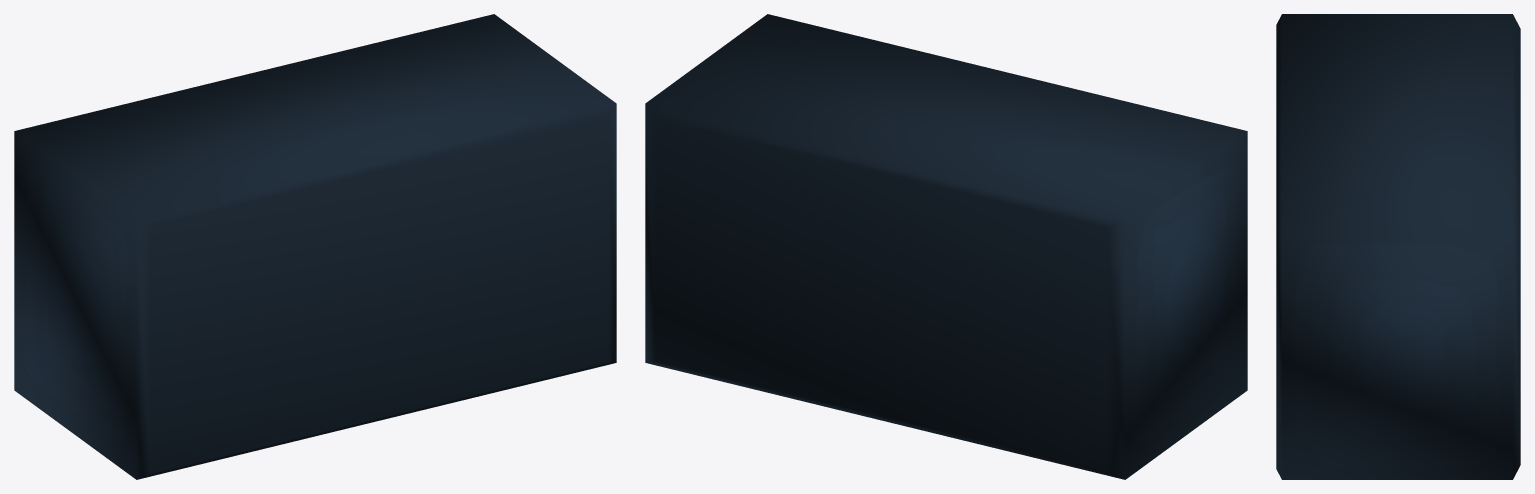
The model's file is minichef_props_mano_caja.fbx.
The picture shows the model from 3 angles, left to right: view 1: azimuth 30°, elevation 25°; view 2: azimuth 150°, elevation 25°; view 3: azimuth 270°, elevation 25°; orthographic projection. The views are drawn at different scales.
Parts seen in each view (by area): view 1: Caja; view 2: Caja; view 3: Caja.
Part boxes in pixels (<box>): Caja: <box>14,14,616,479</box>; Caja: <box>645,14,1247,479</box>; Caja: <box>1276,14,1520,479</box>.
Bounding box in the file's own units: 200 × 103 × 93.29.
